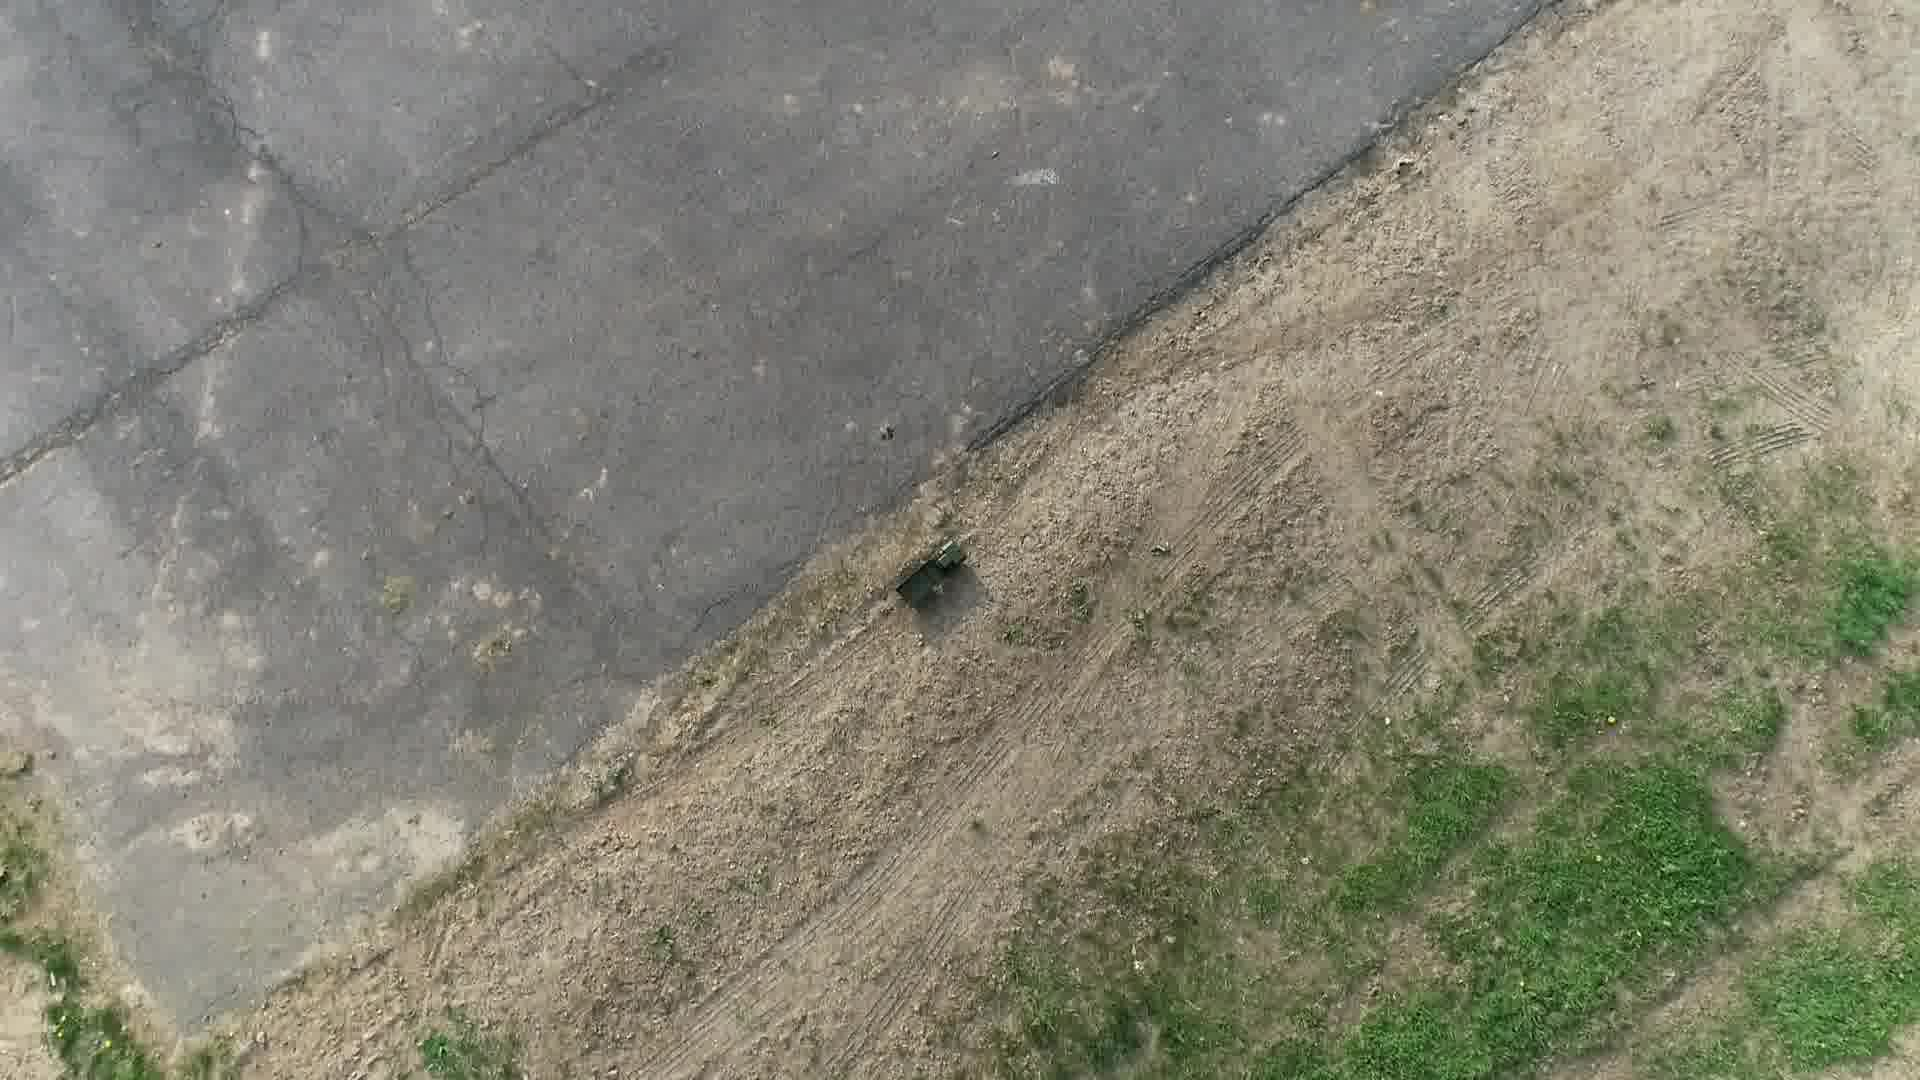transporter9: (890, 535, 969, 613)
